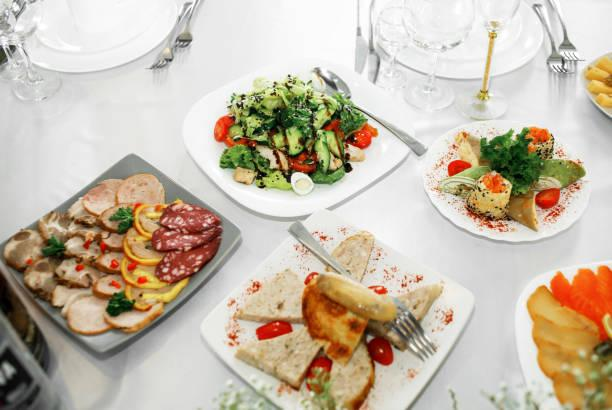Braised Crucian Carp: (198, 207, 471, 409), (0, 154, 240, 357), (179, 64, 408, 218), (421, 121, 592, 242)
